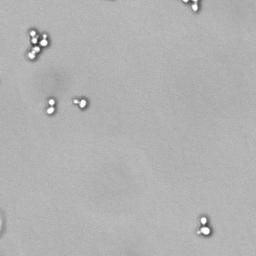2: (70, 94, 90, 113), (42, 97, 59, 117)
3a: (195, 213, 214, 239)
cluster: (22, 26, 52, 63)
